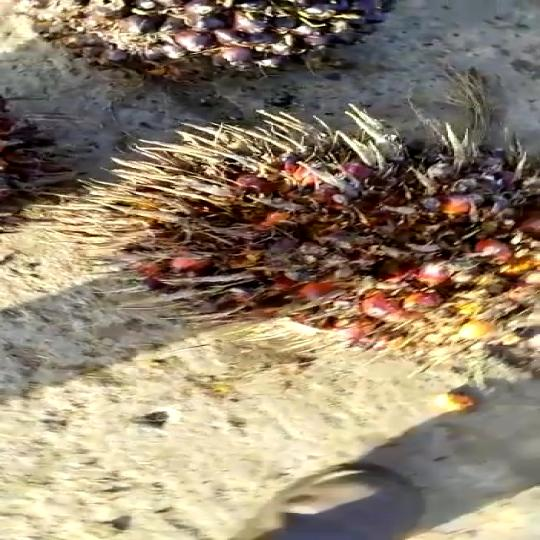terlalu masak: (84, 105, 540, 362)
